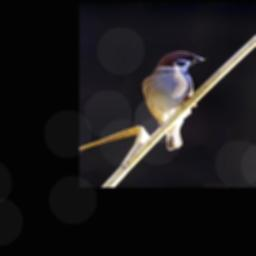Sparrow: (140, 49, 206, 150)
